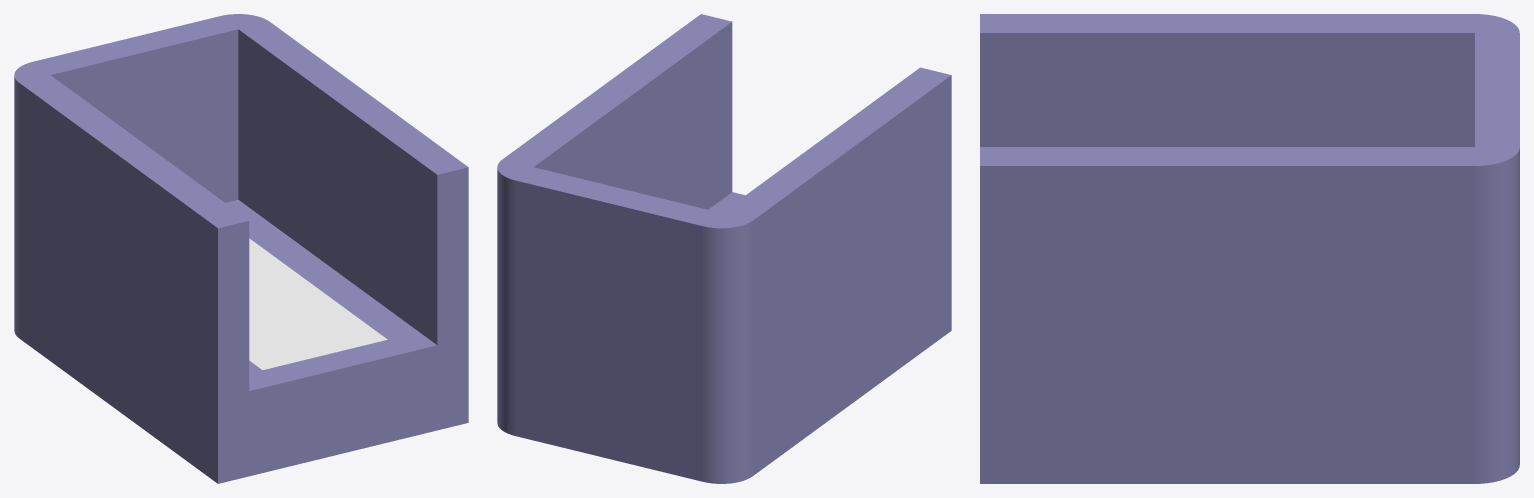
File: CardStack.fbx
The picture shows the model from 3 angles, left to right: view 1: azimuth 30°, elevation 25°; view 2: azimuth 150°, elevation 25°; view 3: azimuth 270°, elevation 25°; orthographic projection. The views are drawn at different scales.
Visible parts, largest first — view 1: window_door; view 2: window_door; view 3: window_door.
Boxes of the visible parts, <box> form: window_door: <box>14,14,468,483</box>; window_door: <box>497,14,951,483</box>; window_door: <box>980,14,1519,483</box>.
Size of the model in its own units: 4 by 3.9 by 6.
